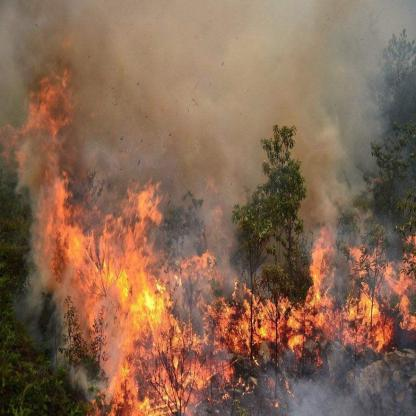fire: (6, 50, 410, 411)
smoke: (1, 3, 340, 192)
